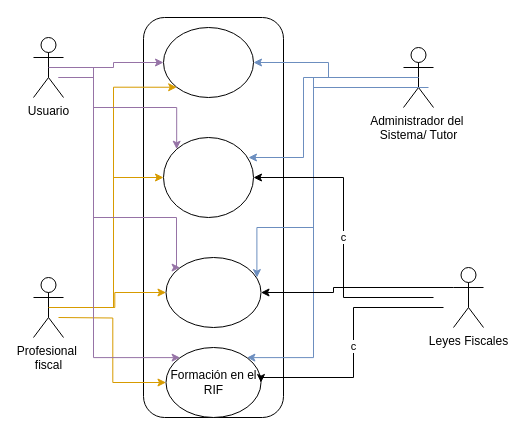
Some shapes in this 525 by 435 pixel diagram are drawn without their labels. Here are the shapes that lost their labels. From the top down, the centre of each, then its label:
At pixel 208 62: "Analisis de conocimientos".
At pixel 208 177: "Formación elemental de contabilidad y fiscal".
At pixel 213 292: "Formación del CFDI".
